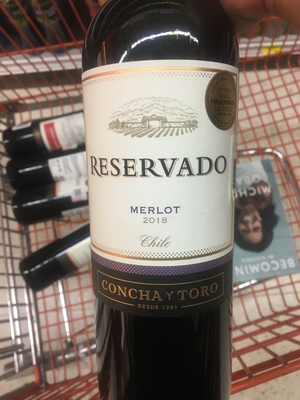reservado merlot: (80, 16, 252, 395)
